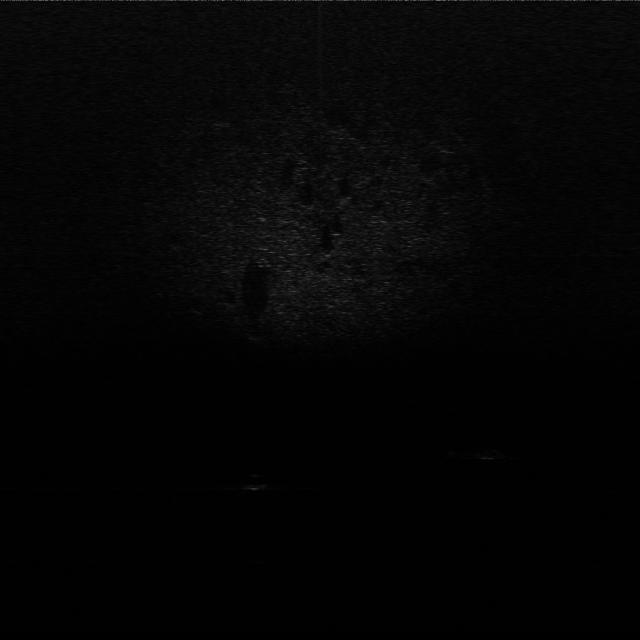ball: (237, 470, 274, 492)
human body: (462, 442, 519, 464)
